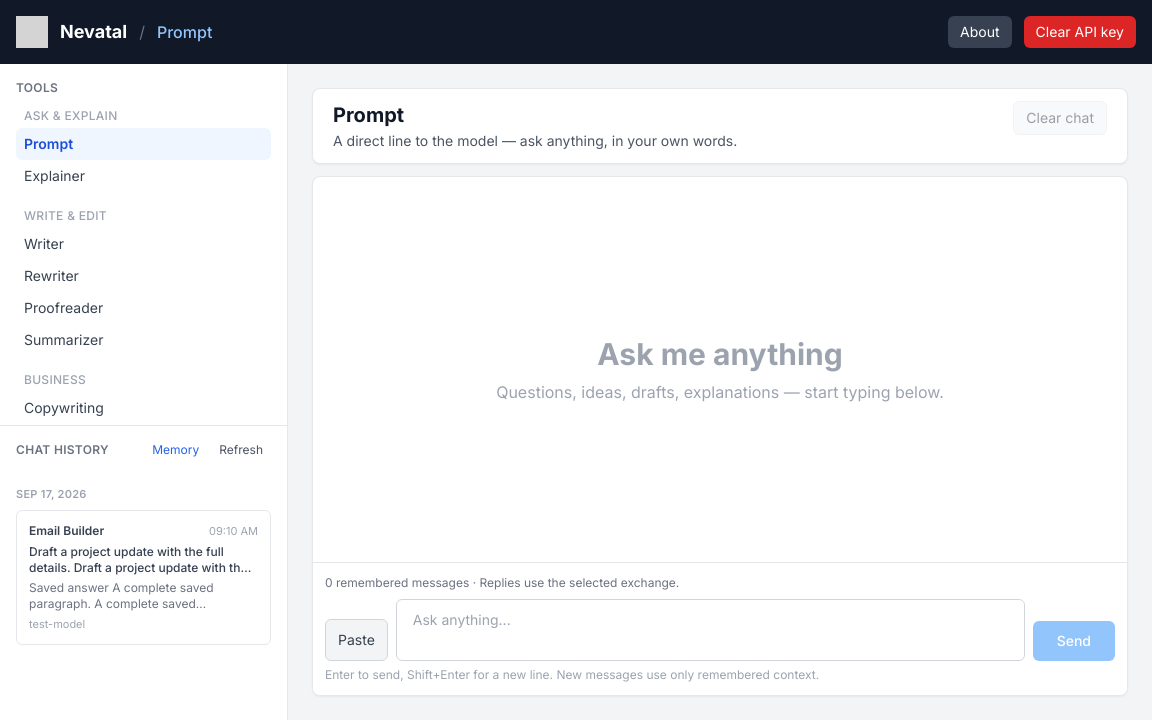
Test case: saved history and memory flows › opens readable sidebar entries into full Markdown replies with tables and code
The width and height of the screenshot is (1152, 720).
Expected: the link "Open saved Email Builder chat:" does not show "**"
Step 1. Click the link with aria-label "Open saved Email Builder chat:" → (144,578), box x1=16 y1=510 x2=271 y2=645
(page scrolled)
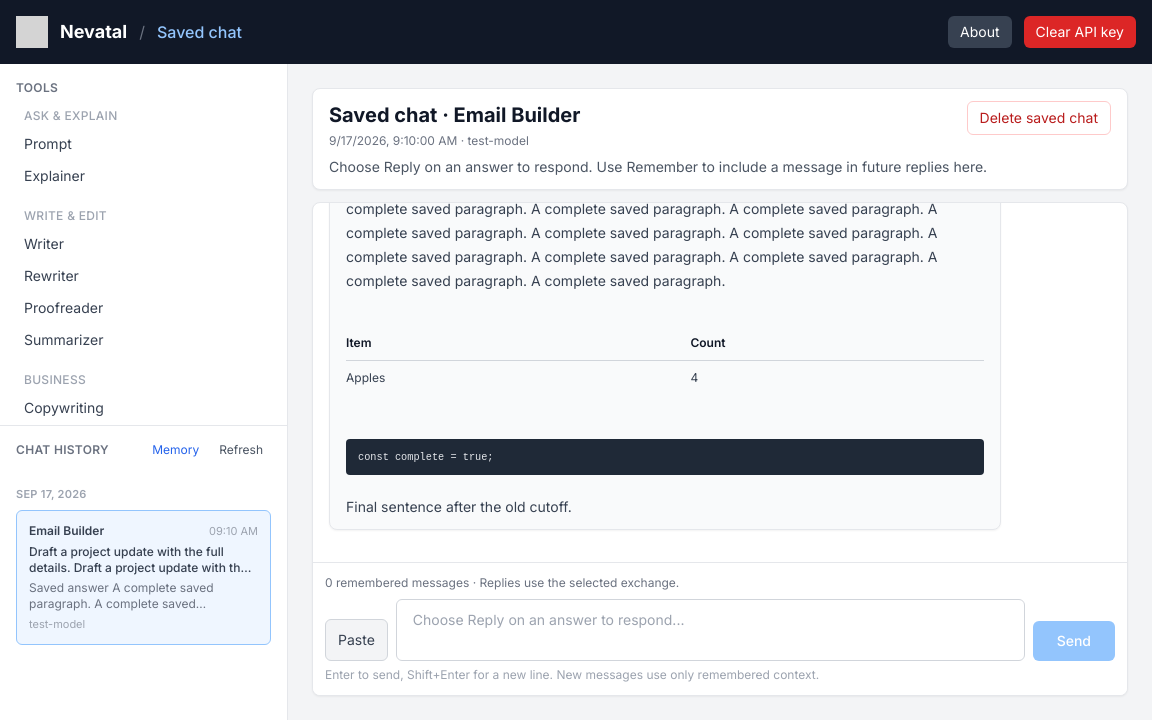
Expected: the heading "Saved chat · Email Builder" is shown, x1=329 y1=101 x2=580 y2=129
Expected: the text "Final sentence after the old cutoff." is shown, x1=346 y1=498 x2=572 y2=515
